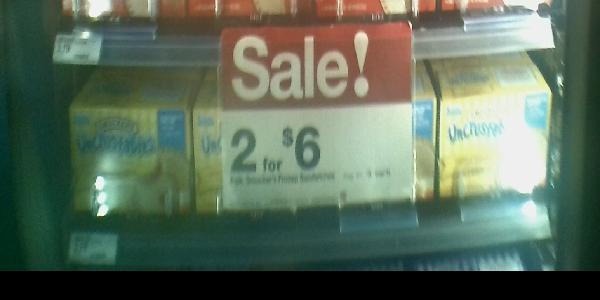icecream: (192, 91, 439, 210), (414, 62, 554, 202), (67, 95, 194, 217)
